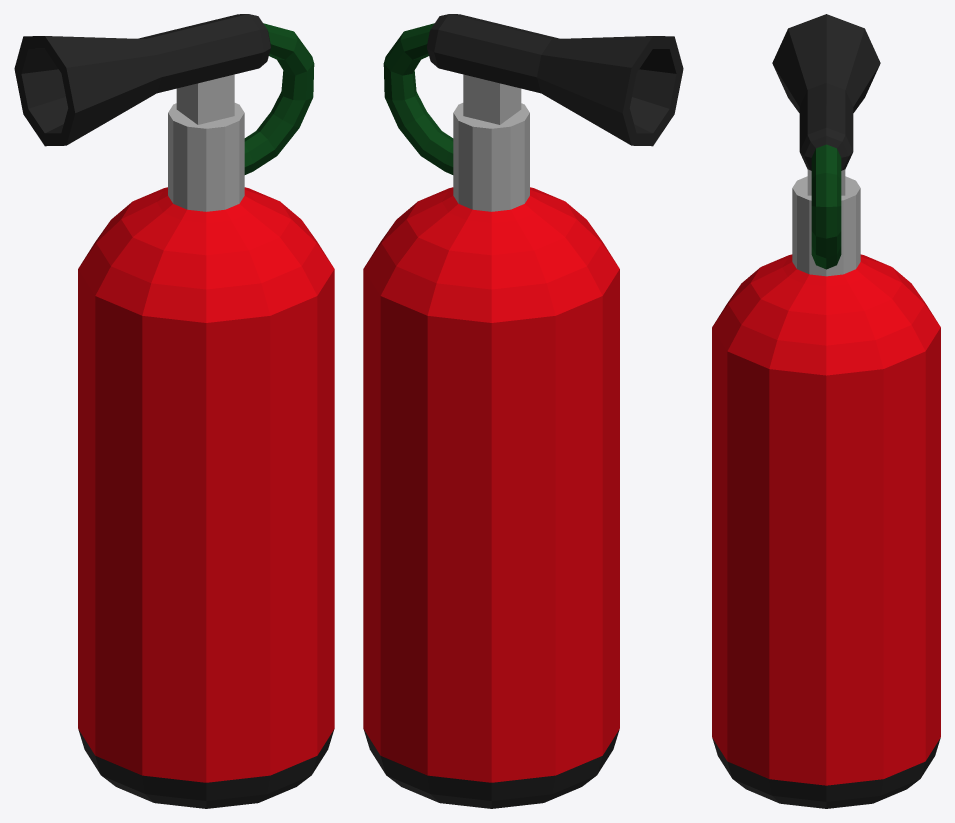
The model's file is Matafuegos.fbx.
The picture shows the model from 3 angles, left to right: view 1: azimuth 30°, elevation 25°; view 2: azimuth 150°, elevation 25°; view 3: azimuth 270°, elevation 25°; orthographic projection. The views are drawn at different scales.
Visible parts, largest first — view 1: Matafuegos; view 2: Matafuegos; view 3: Matafuegos.
Part boxes in pixels (x1,y1,x2,y2): Matafuegos: (14, 14, 334, 808); Matafuegos: (363, 14, 683, 808); Matafuegos: (712, 14, 940, 808).
Bounding box in the file's own units: 77.33 × 210 × 63.01.
